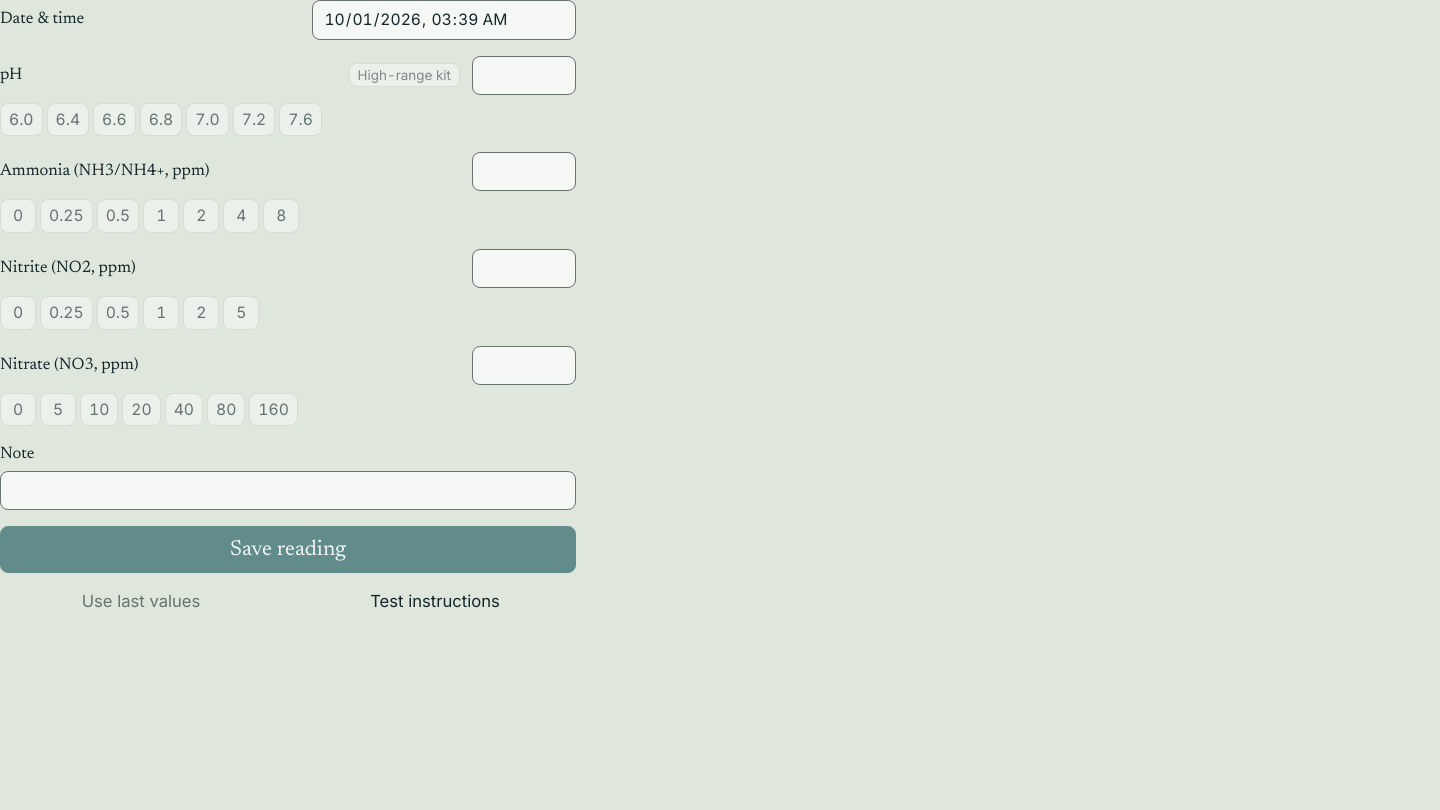
Test: QuickEntry › shows Instructions modal and closes
What coordinates should you click on to do the following:
click the button "Test instructions"
I would click on:
 (435, 601)
Its box is 294,581 -> 576,621.
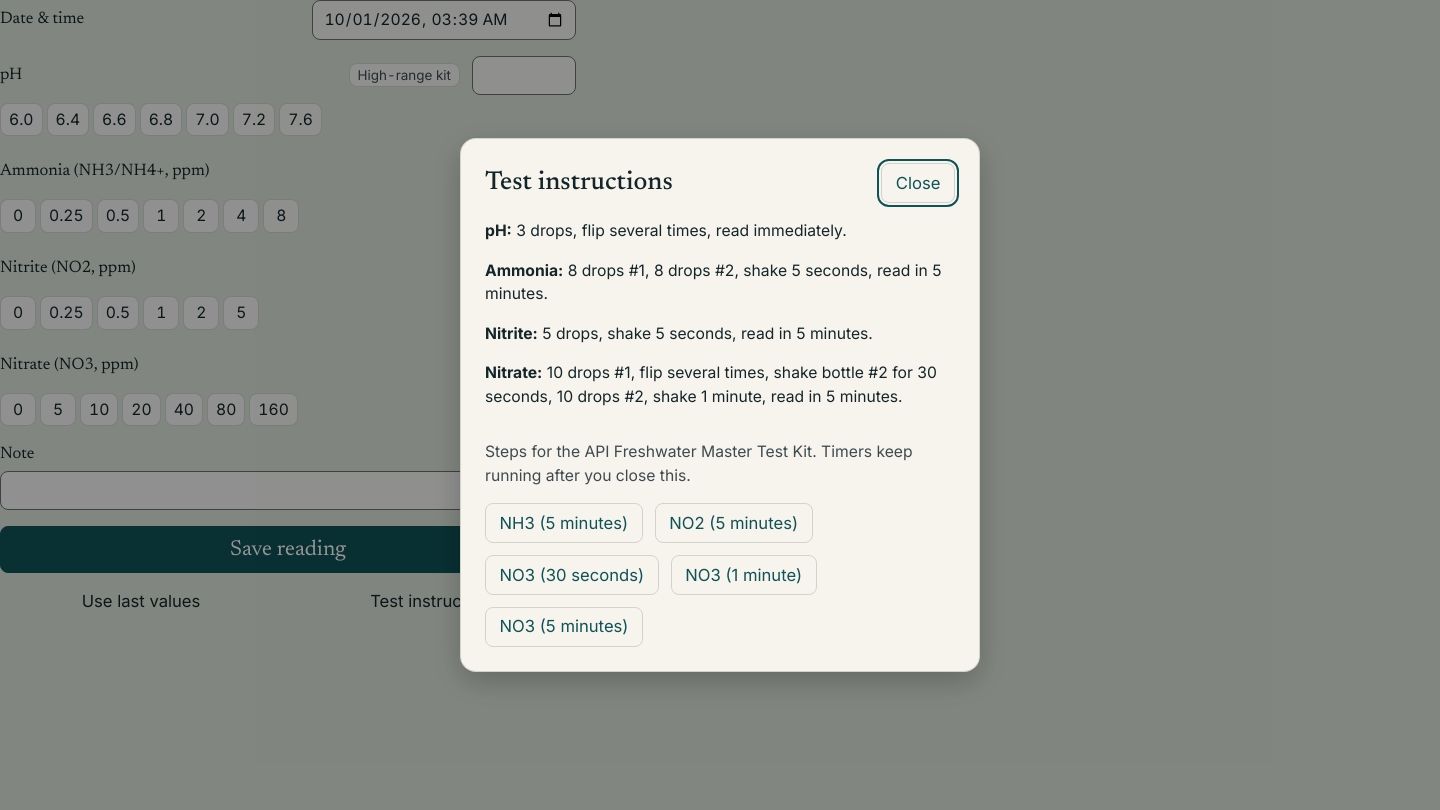
Check: the dialog is shown, box 460,138 -> 980,672
Check: the heading "Test instructions" is shown, box 485,167 -> 673,200
What coordinates should you click on to do the following:
click the button "Close"
I would click on:
 (918, 183)
Its box is 881,163 -> 955,203.
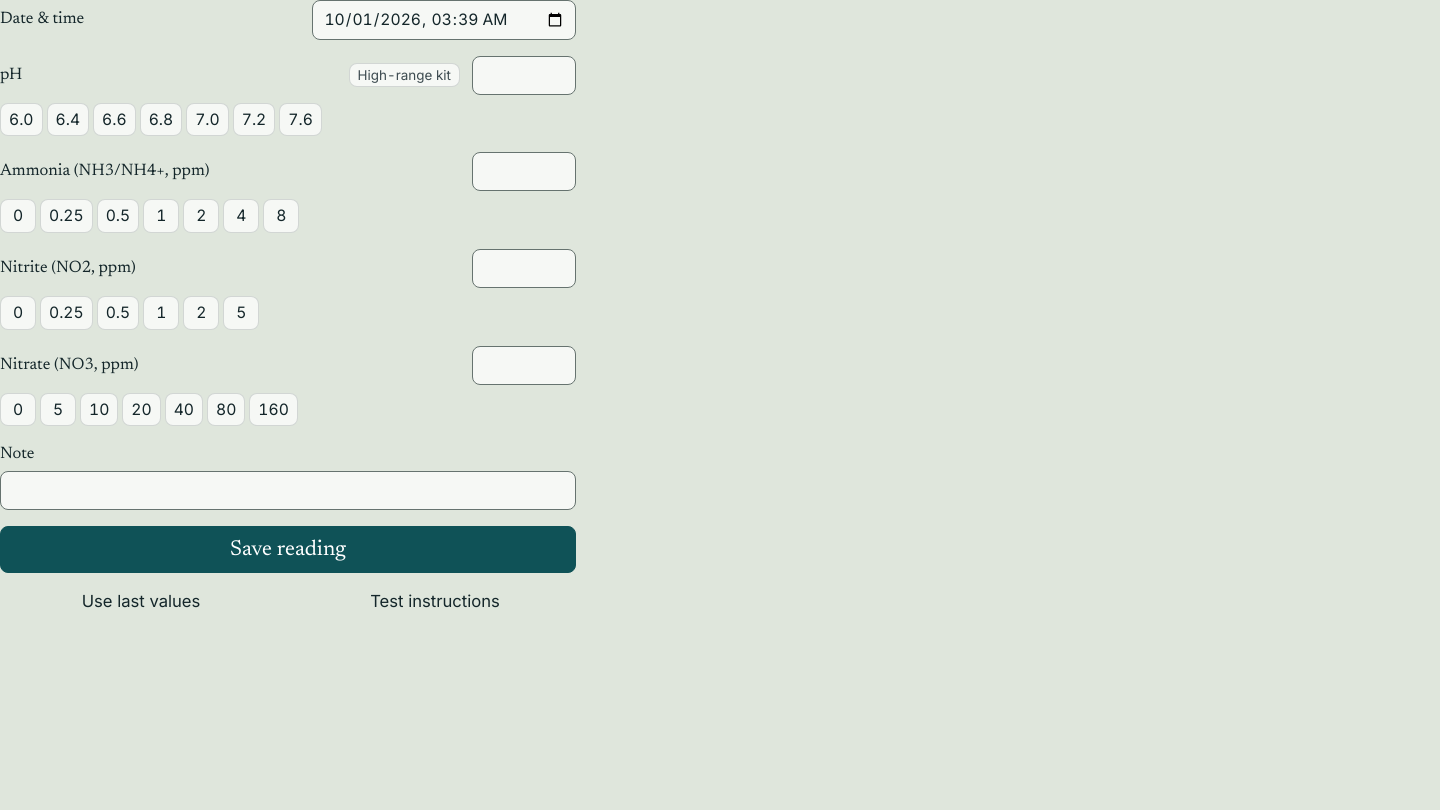
Check: the dialog is gone
